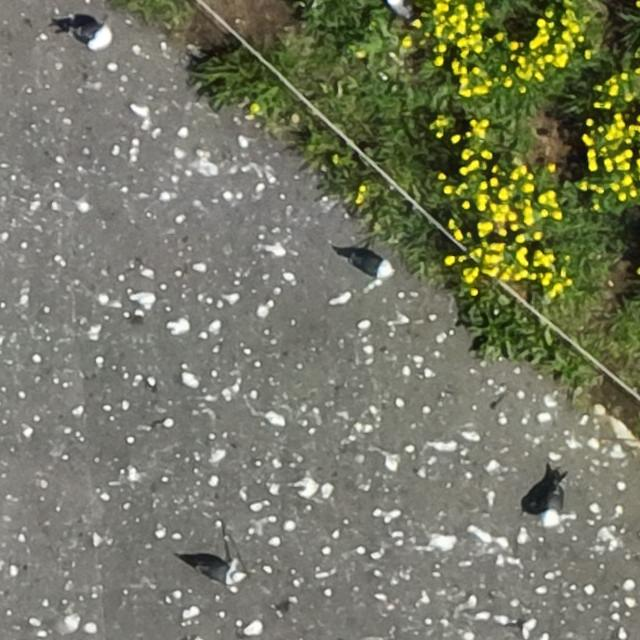umineko: (197, 562, 245, 585), (350, 254, 390, 276), (70, 21, 106, 45), (543, 487, 563, 523), (386, 2, 413, 20)
